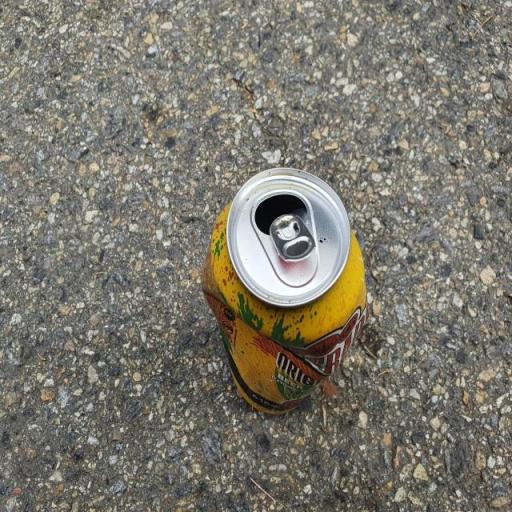metal: (189, 140, 377, 421)
